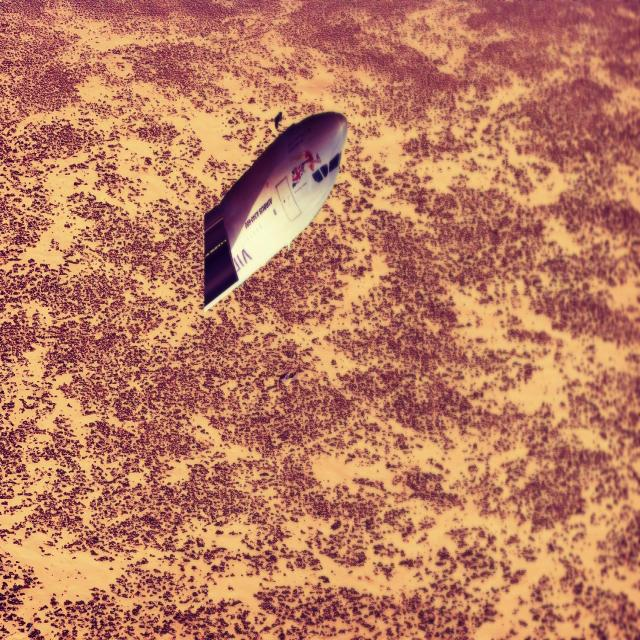airplane: (202, 109, 348, 312)
